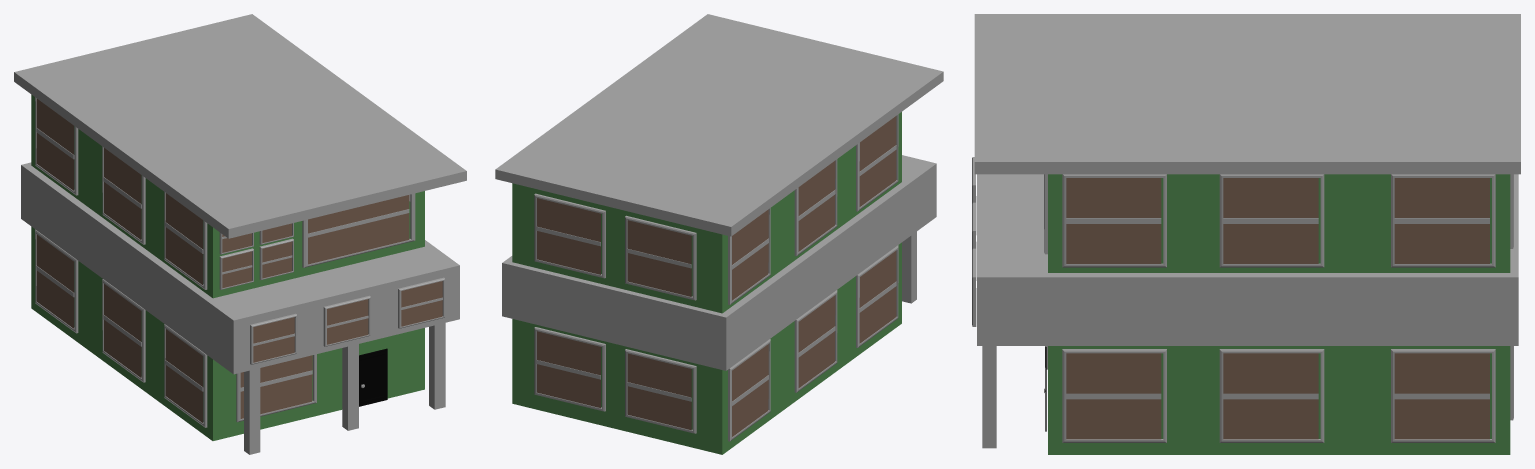
Rendered from IndustryWorkBuilding2.fbx.
The picture shows the model from 3 angles, left to right: view 1: azimuth 30°, elevation 25°; view 2: azimuth 150°, elevation 25°; view 3: azimuth 270°, elevation 25°; orthographic projection. The views are drawn at different scales.
Parts seen in each view (by area): view 1: pCube357, pCube352, pCube351, pCube353, polySurface756, polySurface758, polySurface766, polySurface770, polySurface753, polySurface760, polySurface767, polySurface771 (+11 smaller); view 2: pCube357, pCube352, pCube351, pCube353, polySurface762, polySurface764, polySurface763, polySurface765, polySurface770, polySurface766, polySurface758, polySurface771 (+3 smaller); view 3: pCube357, pCube352, pCube351, pCube353, polySurface772, polySurface773, polySurface759, polySurface761, polySurface768, polySurface769, pCube355.
Part boxes in pixels (x1,y1,x2,y2): pCube357: (14, 14, 466, 238); pCube352: (21, 162, 459, 374); pCube351: (31, 226, 424, 440); pCube353: (31, 94, 424, 298); polySurface756: (302, 193, 415, 267); polySurface758: (164, 324, 207, 427); polySurface766: (35, 229, 78, 333); polySurface770: (102, 279, 145, 382); polySurface753: (236, 354, 316, 422); polySurface760: (164, 192, 207, 289); polySurface767: (35, 97, 78, 195); polySurface771: (102, 146, 145, 244); pCube357: (495, 14, 943, 236); pCube352: (502, 155, 936, 370); pCube351: (512, 242, 901, 454); pCube353: (512, 112, 901, 313); polySurface762: (625, 349, 696, 433); polySurface764: (625, 215, 696, 300); polySurface763: (534, 327, 605, 411); polySurface765: (534, 193, 605, 278); polySurface770: (794, 290, 837, 392); polySurface766: (728, 339, 770, 441); polySurface758: (856, 245, 898, 347); polySurface771: (794, 159, 837, 256); pCube357: (974, 14, 1520, 174); pCube352: (977, 174, 1518, 345); pCube351: (1048, 346, 1510, 454); pCube353: (1048, 174, 1510, 272); polySurface772: (1219, 174, 1324, 267); polySurface773: (1219, 349, 1324, 442); polySurface759: (1062, 349, 1166, 442); polySurface761: (1062, 174, 1166, 267); polySurface768: (1391, 174, 1495, 267); polySurface769: (1391, 349, 1495, 442); pCube355: (982, 346, 996, 448).
Bounding box in the file's own units: 339 × 322 × 532.
